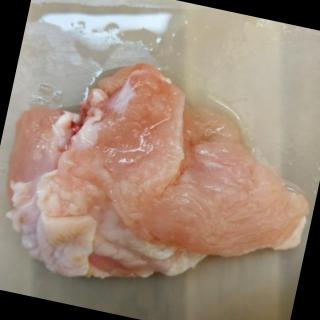Ayam: (1, 39, 320, 320)
